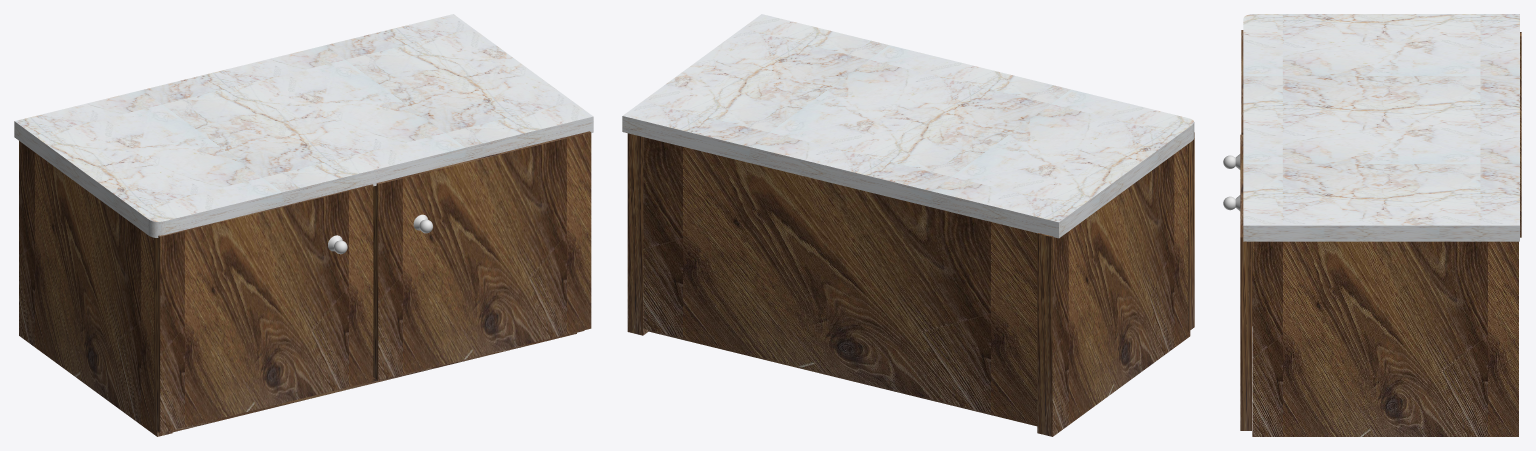
File: simple_cabinet.FBX
3 renders of one model, left to right at view 1: azimuth 30°, elevation 25°; view 2: azimuth 150°, elevation 25°; view 3: azimuth 270°, elevation 25°, orthographic.
Visible parts, largest first — view 1: Box004, Box008, Handle; view 2: Box004, Box008; view 3: Box008, Box004, Handle.
Boxes of the visible parts, left/top/right/bottom form: Box004: left=19, top=131, right=591, bottom=436; Box008: left=14, top=14, right=593, bottom=237; Handle: left=328, top=214, right=432, bottom=254; Box004: left=627, top=132, right=1194, bottom=436; Box008: left=622, top=14, right=1194, bottom=238; Box008: left=1243, top=14, right=1519, bottom=241; Box004: left=1240, top=30, right=1521, bottom=436; Handle: left=1223, top=154, right=1240, bottom=211.
Size of the model in its own units: 91.03 by 43.23 by 54.25.
Materials: 2 (2 with a texture image).
